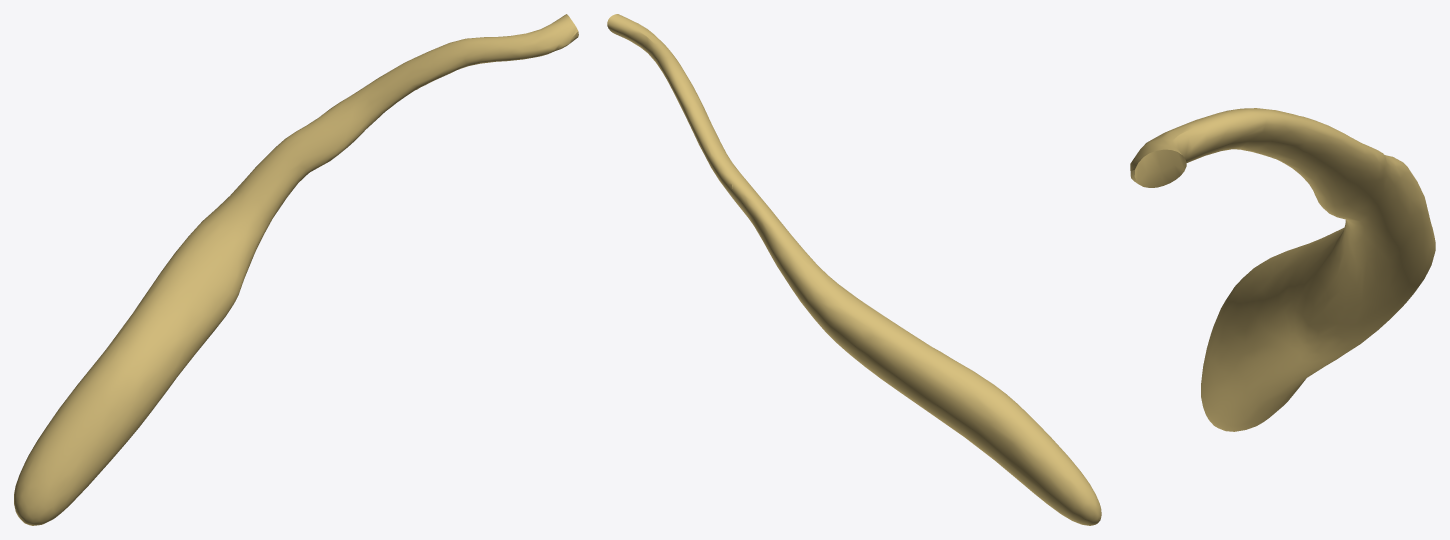
3 views of the same model, side by side, from view 1: azimuth 30°, elevation 25°; view 2: azimuth 150°, elevation 25°; view 3: azimuth 270°, elevation 25° (orthographic). The views are drawn at different scales.
Parts seen in each view (by area): view 1: 右侧绒球脚; view 2: 右侧绒球脚; view 3: 右侧绒球脚.
Boxes of the visible parts, x1,y1,x2,y2 form: 右侧绒球脚: (14, 14, 578, 525); 右侧绒球脚: (607, 14, 1101, 525); 右侧绒球脚: (1130, 108, 1435, 431).
Bounding box in the file's own units: 0.0491 × 0.0348 × 0.0128.
